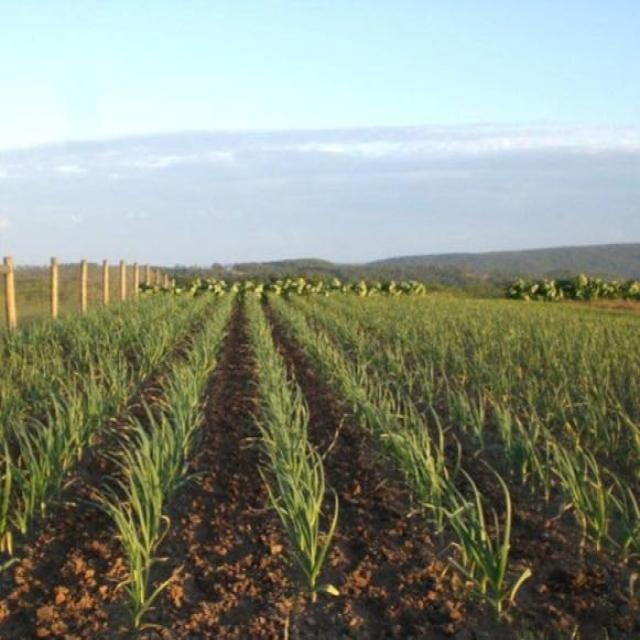row: (265, 306, 501, 631), (371, 372, 638, 640), (1, 307, 209, 640), (147, 298, 308, 633)
